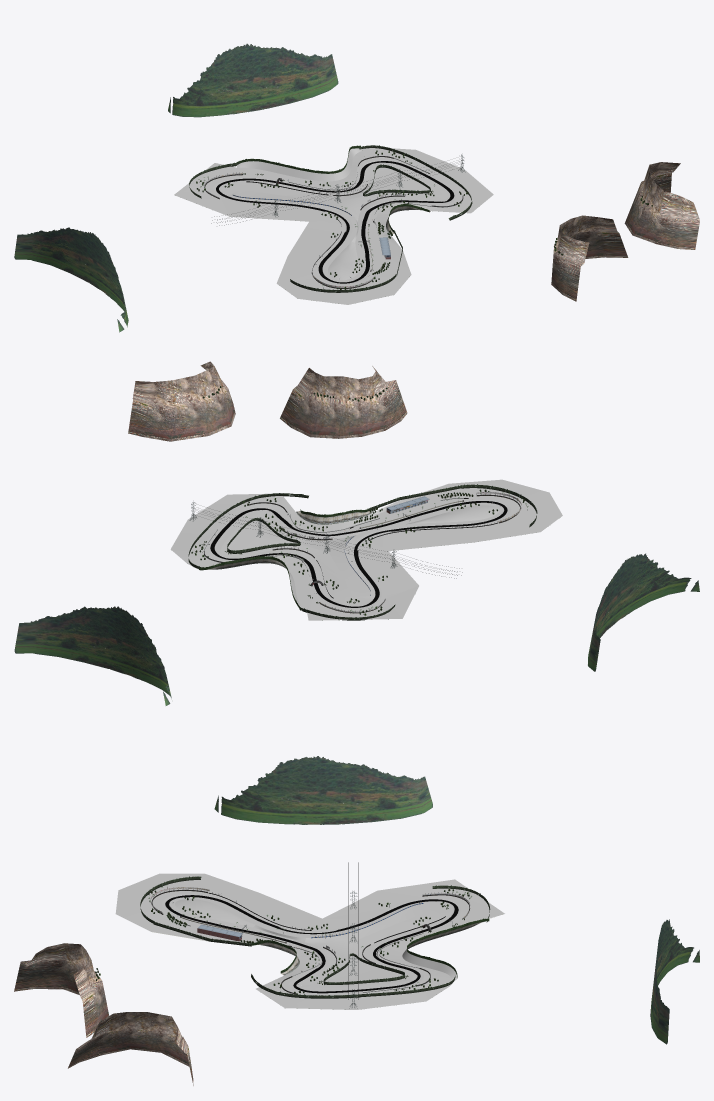
File: Fernstone_Raceway.FBX
3 views of the same model, one above another, from view 1: azimuth 30°, elevation 25°; view 2: azimuth 150°, elevation 25°; view 3: azimuth 270°, elevation 25° (orthographic). The views are drawn at different scales.
Parts seen in each view (by area): view 1: shadow, 3dskybox, tree, idealline; view 2: 3dskybox, shadow, tree, idealline, terrain_1b_dof; view 3: shadow, 3dskybox, tree, idealline, pitbuild, terrain_1b_dof.
Boxes of the visible parts, box(x1,y1,x2,y2) form: shadow: box(174, 148, 493, 304); 3dskybox: box(14, 43, 699, 332); tree: box(189, 145, 652, 292); idealline: box(216, 161, 454, 283); 3dskybox: box(14, 361, 699, 705); shadow: box(170, 479, 562, 620); tree: box(188, 386, 537, 620); idealline: box(210, 501, 507, 607); terrain_1b_dof: box(206, 511, 388, 620); shadow: box(115, 873, 504, 1009); 3dskybox: box(14, 756, 699, 1085); tree: box(95, 876, 490, 998); idealline: box(165, 895, 458, 993); pitbuild: box(177, 915, 285, 942); terrain_1b_dof: box(255, 921, 483, 975).
Size of what is drawn, in the model's own units: 967 by 125 by 966.
